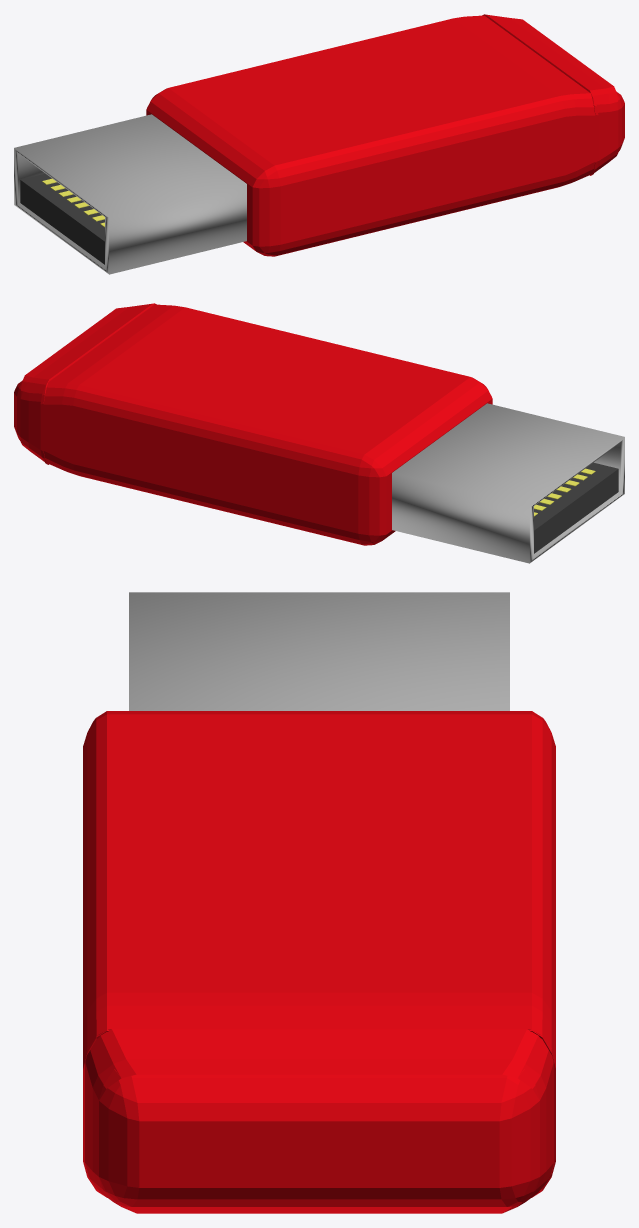
The model's file is USB.glb.
3 views of the same model, one above another, from view 1: azimuth 30°, elevation 25°; view 2: azimuth 150°, elevation 25°; view 3: azimuth 270°, elevation 25° (orthographic). The views are drawn at different scales.
Parts seen in each view (by area): view 1: BOX, USB_CONNECTOR, PINS; view 2: BOX, USB_CONNECTOR, PINS; view 3: BOX, USB_CONNECTOR.
Boxes of the visible parts, left/top/right/bottom form: BOX: left=146, top=14, right=624, bottom=256; USB_CONNECTOR: left=14, top=114, right=246, bottom=274; PINS: left=42, top=178, right=104, bottom=227; BOX: left=14, top=303, right=492, bottom=545; USB_CONNECTOR: left=392, top=403, right=624, bottom=563; PINS: left=534, top=468, right=595, bottom=516; BOX: left=83, top=711, right=555, bottom=1213; USB_CONNECTOR: left=129, top=592, right=509, bottom=710.
Size of the model in its own units: 0.1972 by 0.0331 by 0.0781.
